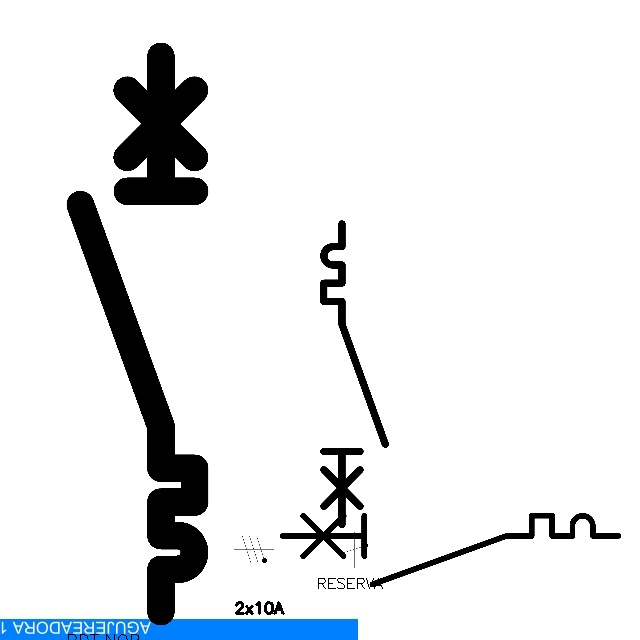interruptor_termomagnetico: (66, 42, 209, 626), (273, 507, 626, 593), (316, 216, 393, 532)
